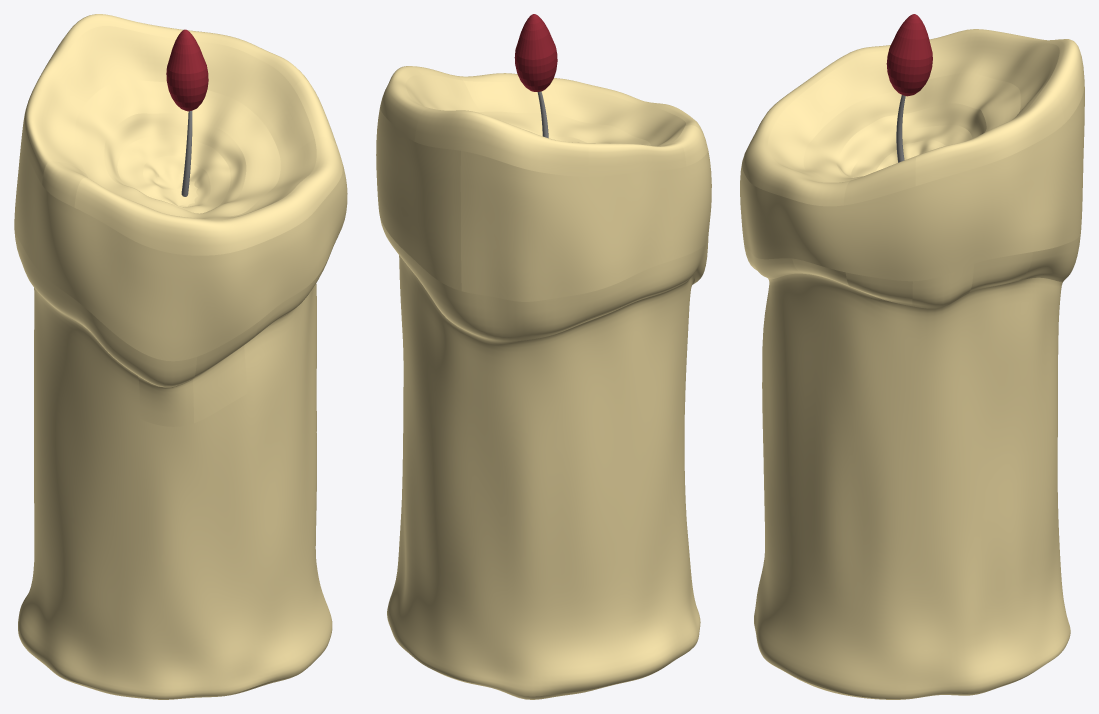
Rendered from VELA.fbx.
3 renders of one model, left to right at view 1: azimuth 30°, elevation 25°; view 2: azimuth 150°, elevation 25°; view 3: azimuth 270°, elevation 25°, orthographic. The views are drawn at different scales.
Parts seen in each view (by area): view 1: Cylinder, Sphere, NurbsPath; view 2: Cylinder, Sphere; view 3: Cylinder, Sphere.
Boxes of the visible parts, x1,y1,x2,y2 form: Cylinder: [14, 14, 347, 699]; Sphere: [166, 29, 208, 111]; NurbsPath: [181, 111, 192, 196]; Cylinder: [376, 66, 711, 699]; Sphere: [514, 14, 557, 91]; Cylinder: [740, 29, 1084, 699]; Sphere: [886, 14, 932, 96].
Bounding box in the file's own units: 227 × 465 × 229.
